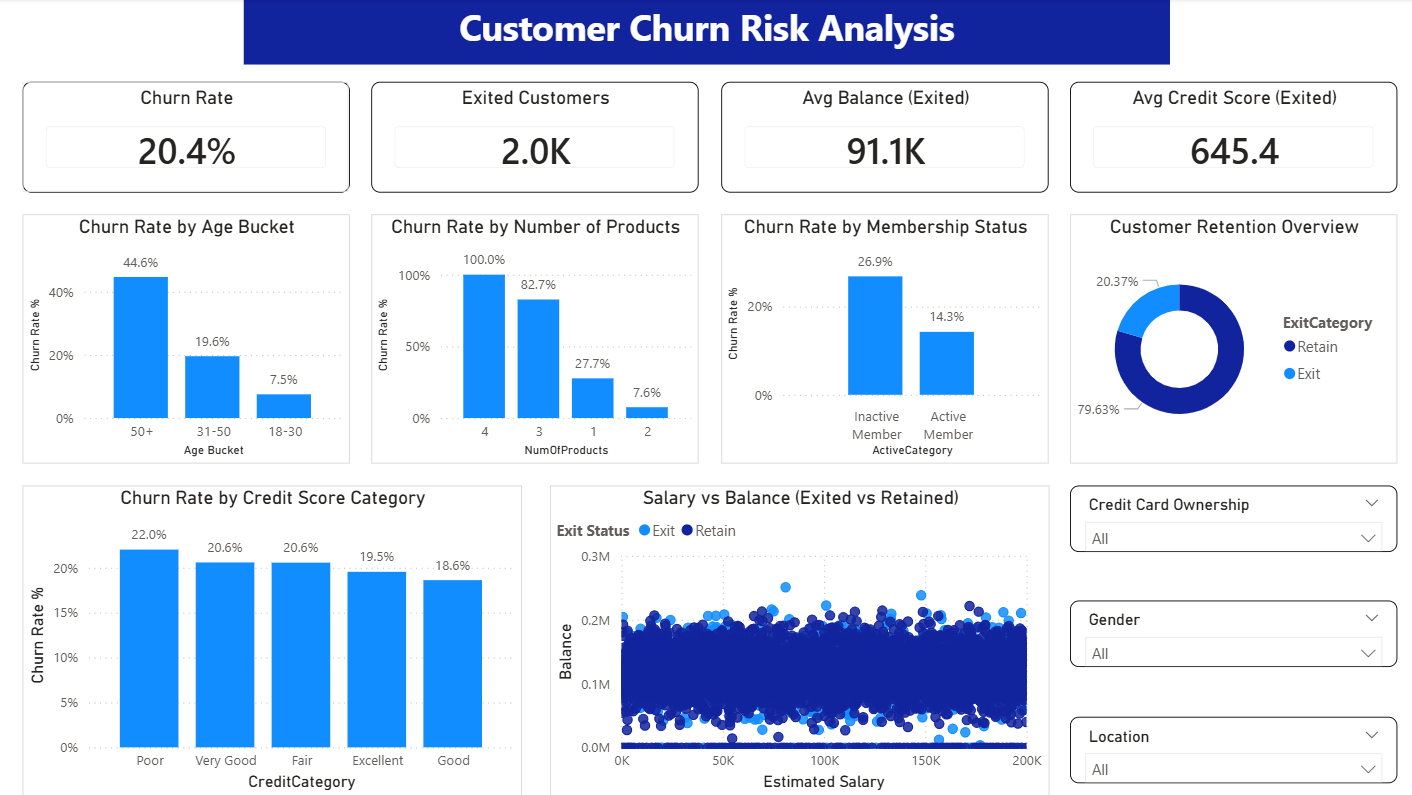

Layout of this report page (visuals, bound fields, positions):
{"tool":"powerbi","page":{"name":"Customer Churn Analysis","canvas":[1280,720],"ordinal":1},"visuals":[{"type":"textbox","box":[220,0,835,60],"z":0},{"type":"cardVisual","title":"Churn Rate","fields":{"Data":["Bank_Churn.churn rate%"]},"box":[20,75,295,100],"z":1000},{"type":"cardVisual","title":"Exited Customers","fields":{"Data":["Bank_Churn.Exited Customers"]},"box":[335,75,295,100],"z":2000},{"type":"cardVisual","title":"Avg Balance (Exited)","fields":{"Data":["Bank_Churn.Average Bank Balance"]},"box":[650.4,75.5,295,100],"z":3000},{"type":"cardVisual","title":"Avg Credit Score (Exited)","fields":{"Data":["Avg(Bank_Churn.CreditScore)"]},"box":[965,75,295,100],"z":4000},{"type":"clusteredColumnChart","title":"Churn Rate by Age Bucket","fields":{"Category":["CustomerInfo.Age Bucket"],"Y":["Bank_Churn.churn rate%"]},"box":[20.6,195,295,225],"z":5000},{"type":"clusteredColumnChart","title":"Churn Rate by Number of Products","fields":{"Category":["Bank_Churn.NumOfProducts"],"Y":["Bank_Churn.churn rate%"]},"box":[335,195,295,225],"z":6000},{"type":"clusteredColumnChart","title":"Churn Rate by Membership Status","fields":{"Category":["ActiveCustomer.ActiveCategory"],"Y":["Bank_Churn.churn rate%"]},"box":[650.4,195,295,225],"z":7000},{"type":"clusteredColumnChart","title":"Churn Rate by Credit Score Category","fields":{"Category":["Bank_Churn.CreditCategory"],"Y":["Bank_Churn.churn rate%"]},"box":[20.6,439.1,450,281.3],"z":8000},{"type":"scatterChart","title":"Salary vs Balance (Exited vs Retained)","fields":{"X":["CustomerInfo.EstimatedSalary"],"Y":["Bank_Churn.Balance"],"Series":["ExitCustomer.ExitCategory"]},"box":[495.4,439.1,450.1,281.3],"z":9000},{"type":"slicer","fields":{"Values":["Geography.GeographyLocation"]},"box":[965,647.7,295,60],"z":10000},{"type":"slicer","fields":{"Values":["CreditCard.Category"]},"box":[965,439.1,295,60.4],"z":11000},{"type":"slicer","fields":{"Values":["Gender.GenderCategory"]},"box":[964.7,543.4,295,60.4],"z":12000},{"type":"donutChart","title":"Customer Retention Overview","fields":{"Y":["CountNonNull(Bank_Churn.CustomerId)"],"Category":["ExitCustomer.ExitCategory"]},"box":[965,194.9,295,225],"z":13000}]}

Visuals, with their boxes in screenshot pixels (x1, y1, x2, y2), scaled from the page's 1280x720 canvas onto the 1412x795 screenshot:
textbox: pyautogui.locateOnScreen(243, 0, 1164, 66)
"Churn Rate" cardVisual: pyautogui.locateOnScreen(22, 83, 347, 193)
"Exited Customers" cardVisual: pyautogui.locateOnScreen(370, 83, 695, 193)
"Avg Balance (Exited)" cardVisual: pyautogui.locateOnScreen(717, 83, 1043, 194)
"Avg Credit Score (Exited)" cardVisual: pyautogui.locateOnScreen(1065, 83, 1390, 193)
"Churn Rate by Age Bucket" clusteredColumnChart: pyautogui.locateOnScreen(23, 215, 348, 464)
"Churn Rate by Number of Products" clusteredColumnChart: pyautogui.locateOnScreen(370, 215, 695, 464)
"Churn Rate by Membership Status" clusteredColumnChart: pyautogui.locateOnScreen(717, 215, 1043, 464)
"Churn Rate by Credit Score Category" clusteredColumnChart: pyautogui.locateOnScreen(23, 485, 519, 794)
"Salary vs Balance (Exited vs Retained)" scatterChart: pyautogui.locateOnScreen(546, 485, 1043, 794)
slicer - Geography.GeographyLocation: pyautogui.locateOnScreen(1065, 715, 1390, 781)
slicer - CreditCard.Category: pyautogui.locateOnScreen(1065, 485, 1390, 552)
slicer - Gender.GenderCategory: pyautogui.locateOnScreen(1064, 600, 1390, 667)
"Customer Retention Overview" donutChart: pyautogui.locateOnScreen(1065, 215, 1390, 464)
